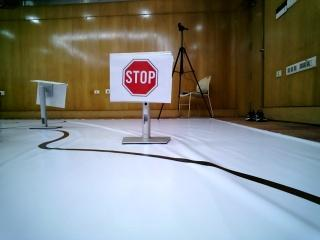stop: (107, 56, 167, 101)
